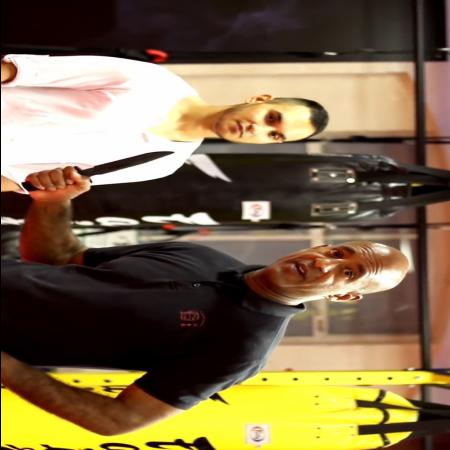long weapon: (15, 148, 182, 196)
